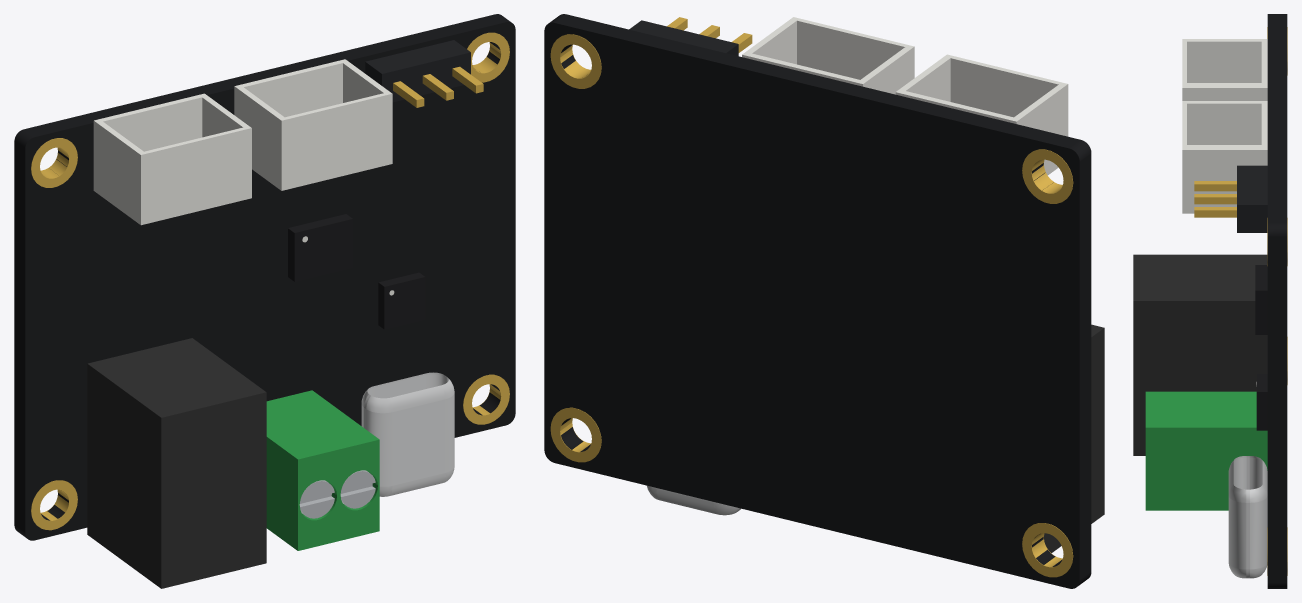
The model's file is bus-servo-board-ws25514-eck.glb.
3 renders of one model, left to right at view 1: azimuth 30°, elevation 25°; view 2: azimuth 150°, elevation 25°; view 3: azimuth 270°, elevation 25°, orthographic. The views are drawn at different scales.
Visible parts, largest first — view 1: board, dc_jack, servo_port_1, servo_port_2, dc_terminal, usb, uart, buck, ch343, dc_terminal_screws, hole_3, hole_1 (+3 smaller); view 2: board, servo_port_1, servo_port_2, dc_jack, hole_3, hole_4, hole_1, hole_2, uart, usb; view 3: dc_jack, dc_terminal, board, servo_port_2, servo_port_1, usb, uart, uart_pins, buck, ch343.
Part boxes in pixels (x1=…): board: x1=14, y1=14, x2=515, y2=540; dc_jack: x1=87, y1=338, x2=266, y2=588; servo_port_1: x1=93, y1=93, x2=251, y2=225; servo_port_2: x1=234, y1=59, x2=392, y2=190; dc_terminal: x1=266, y1=390, x2=379, y2=550; usb: x1=361, y1=372, x2=454, y2=496; uart: x1=365, y1=40, x2=470, y2=102; buck: x1=288, y1=214, x2=352, y2=281; ch343: x1=378, y1=272, x2=425, y2=329; dc_terminal_screws: x1=299, y1=470, x2=375, y2=518; hole_3: x1=31, y1=138, x2=77, y2=187; hole_1: x1=31, y1=480, x2=77, y2=530; board: x1=544, y1=14, x2=1091, y2=588; servo_port_1: x1=895, y1=54, x2=1068, y2=175; servo_port_2: x1=742, y1=17, x2=914, y2=94; dc_jack: x1=1044, y1=324, x2=1104, y2=552; hole_3: x1=1022, y1=149, x2=1073, y2=203; hole_4: x1=550, y1=34, x2=601, y2=88; hole_1: x1=1022, y1=523, x2=1073, y2=577; hole_2: x1=550, y1=407, x2=601, y2=462; uart: x1=629, y1=20, x2=738, y2=56; usb: x1=647, y1=485, x2=740, y2=515; dc_jack: x1=1133, y1=254, x2=1267, y2=455; dc_terminal: x1=1145, y1=391, x2=1267, y2=510; board: x1=1267, y1=14, x2=1287, y2=588; servo_port_2: x1=1182, y1=101, x2=1267, y2=213; servo_port_1: x1=1182, y1=39, x2=1267, y2=100; usb: x1=1228, y1=456, x2=1267, y2=578; uart: x1=1237, y1=165, x2=1267, y2=232; uart_pins: x1=1194, y1=181, x2=1236, y2=217; buck: x1=1255, y1=265, x2=1267, y2=334; ch343: x1=1256, y1=374, x2=1267, y2=430.
Size of the model in its own units: 42 by 35.16 by 12.63.
